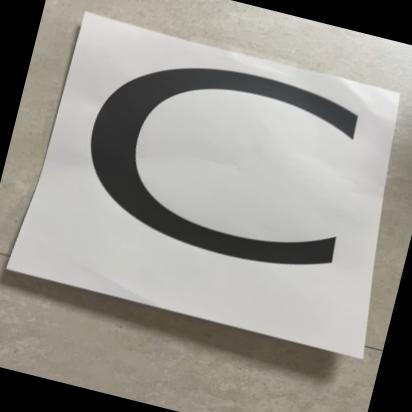seat: (37, 18, 412, 353), (23, 10, 363, 264), (312, 259, 323, 270)
